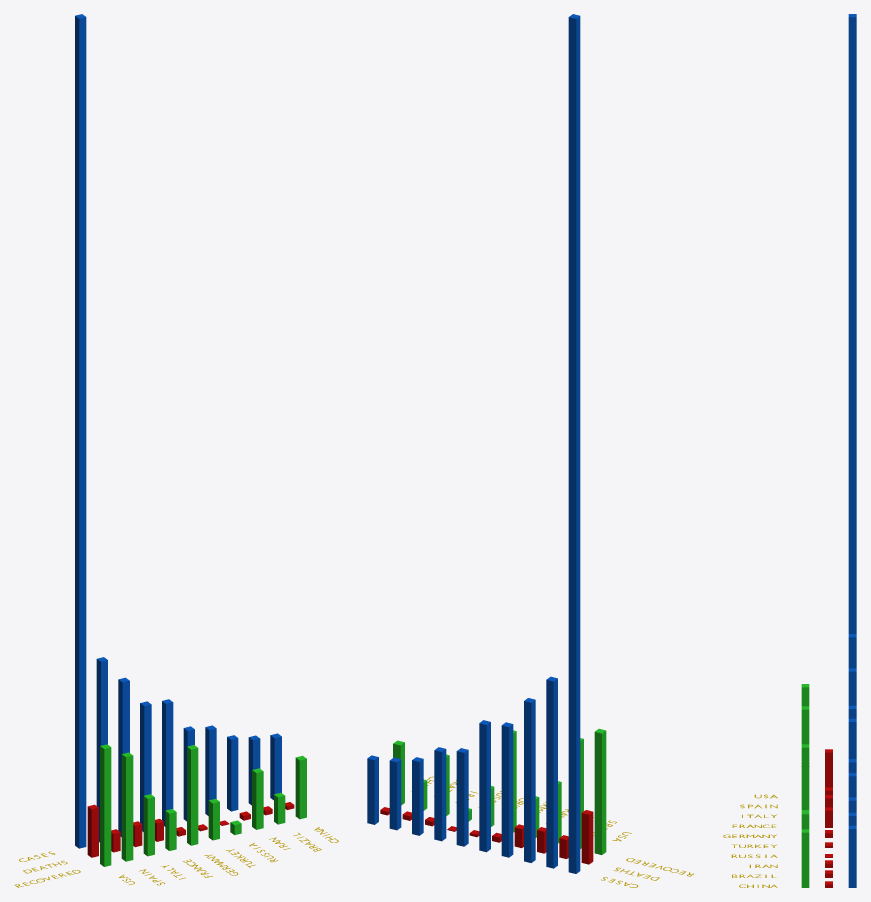
Rendered from covid-data.obj.
3 views of the same model, side by side, from view 1: azimuth 30°, elevation 25°; view 2: azimuth 150°, elevation 25°; view 3: azimuth 270°, elevation 25° (orthographic). The views are drawn at different scales.
Parts seen in each view (by area): view 1: USA_cases, USA_recovered, Spain_recovered, Germany_cases, Spain_cases, France_cases, Italy_cases, Germany_recovered, Russia_cases, Iran_cases, China_recovered, China_cases (+2 smaller); view 2: USA_cases, Spain_cases, Italy_cases, France_cases, USA_recovered, Germany_cases, Turkey_cases, Russia_cases, Iran_cases, Brazil_cases, China_cases, USA_deaths; view 3: USA_cases, Germany_recovered, China_cases, China_recovered, Germany_cases, Spain_recovered, Italy_cases, Spain_cases, USA_deaths.
Boxes of the visible parts, box(x1,y1,x2,y2) form: USA_cases: box(75, 14, 86, 848); USA_recovered: box(100, 744, 111, 866); Spain_recovered: box(121, 752, 133, 861); Germany_cases: box(162, 699, 173, 826); Spain_cases: box(96, 657, 107, 842); France_cases: box(140, 701, 151, 831); Italy_cases: box(118, 677, 129, 836); Germany_recovered: box(187, 745, 198, 845); Russia_cases: box(205, 725, 216, 815); Iran_cases: box(227, 735, 238, 811); China_recovered: box(295, 755, 306, 819); China_cases: box(270, 733, 281, 800); USA_cases: box(568, 14, 580, 873); Spain_cases: box(546, 676, 557, 868); Italy_cases: box(524, 698, 535, 862); France_cases: box(501, 722, 513, 857); USA_recovered: box(594, 728, 606, 854); Germany_cases: box(479, 720, 490, 852); Turkey_cases: box(456, 748, 468, 846); Russia_cases: box(434, 747, 446, 841); Iran_cases: box(412, 757, 423, 835); Brazil_cases: box(389, 757, 401, 830); China_cases: box(367, 755, 378, 824); USA_deaths: box(581, 810, 593, 864); USA_cases: box(848, 14, 856, 633); Germany_recovered: box(801, 744, 809, 809); China_cases: box(848, 825, 856, 887); China_recovered: box(801, 829, 809, 887); Germany_cases: box(848, 718, 856, 758); Spain_recovered: box(801, 706, 809, 744); Italy_cases: box(848, 668, 856, 705); Spain_cases: box(848, 634, 856, 668); USA_deaths: box(825, 749, 832, 787).
Size of the model in its own units: 399 by 1095 by 170.
